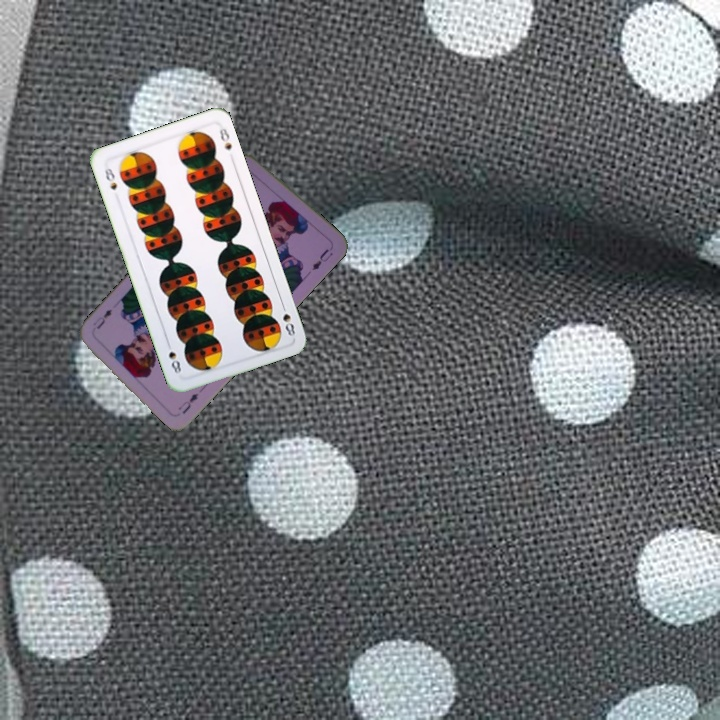EU: (174, 389, 201, 416)
S8: (277, 299, 298, 339), (100, 164, 119, 193)
